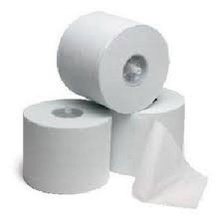tissue: (47, 5, 175, 119), (101, 82, 211, 214), (17, 92, 117, 199)
